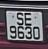0: (32, 26, 41, 41)
3: (25, 26, 33, 41)
6: (17, 25, 26, 41)
9: (9, 24, 17, 42)
E: (24, 12, 33, 27)
S: (16, 12, 25, 27)
